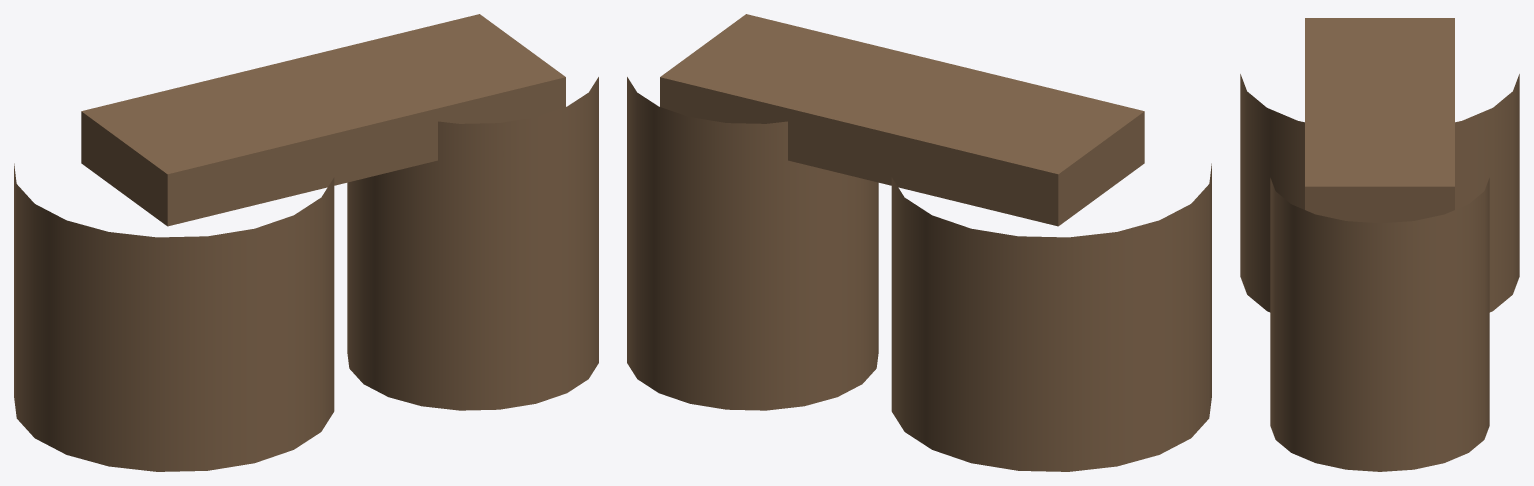
Rendered from percussion.glb.
3 renders of one model, left to right at view 1: azimuth 30°, elevation 25°; view 2: azimuth 150°, elevation 25°; view 3: azimuth 270°, elevation 25°, orthographic. The views are drawn at different scales.
Visible parts, largest first — view 1: percussion; view 2: percussion; view 3: percussion.
Part boxes in pixels (<box>): percussion: <box>14,14,598,471</box>; percussion: <box>627,14,1211,471</box>; percussion: <box>1240,18,1519,471</box>.
Bounding box in the file's own units: 1.1 × 0.575 × 0.56.
